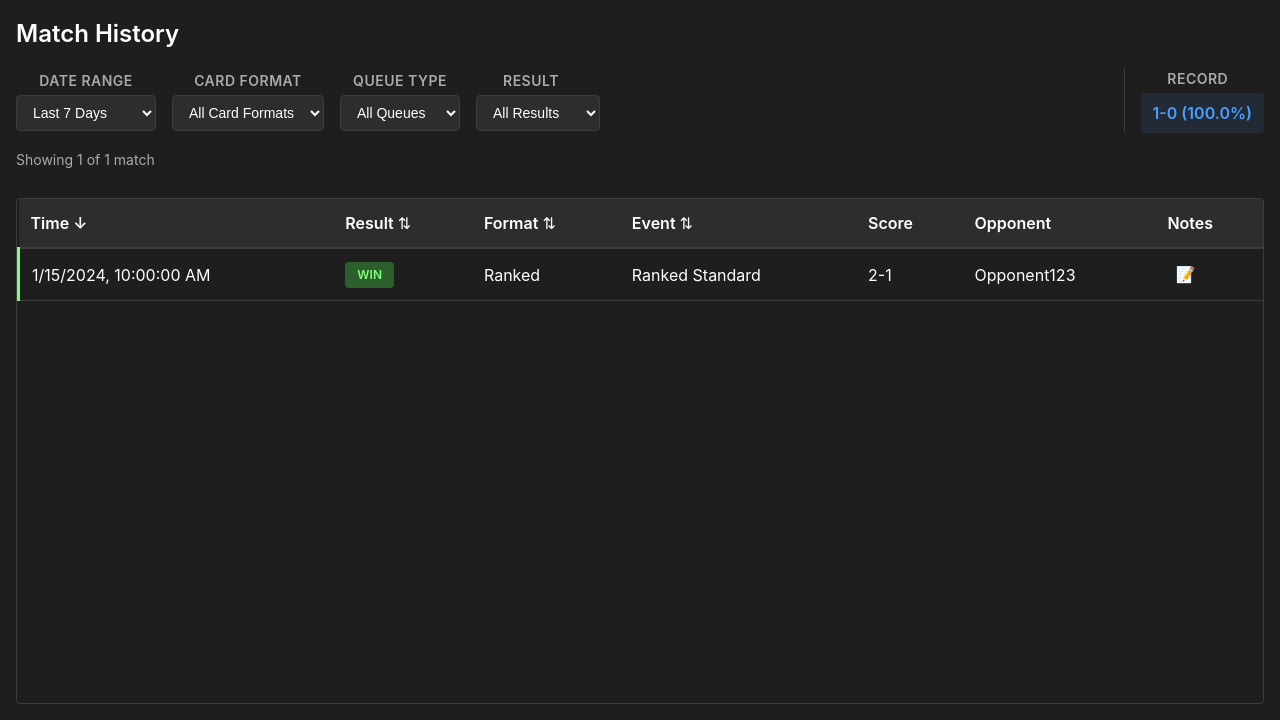
Test: MatchHistory › Sorting › should sort by event when clicking Event header
The width and height of the screenshot is (1280, 720).
Expected: the table is shown, x1=17 y1=199 x2=1263 y2=301
Click the column heading "Event ⇅" at (738, 224), box x1=620 y1=199 x2=856 y2=248
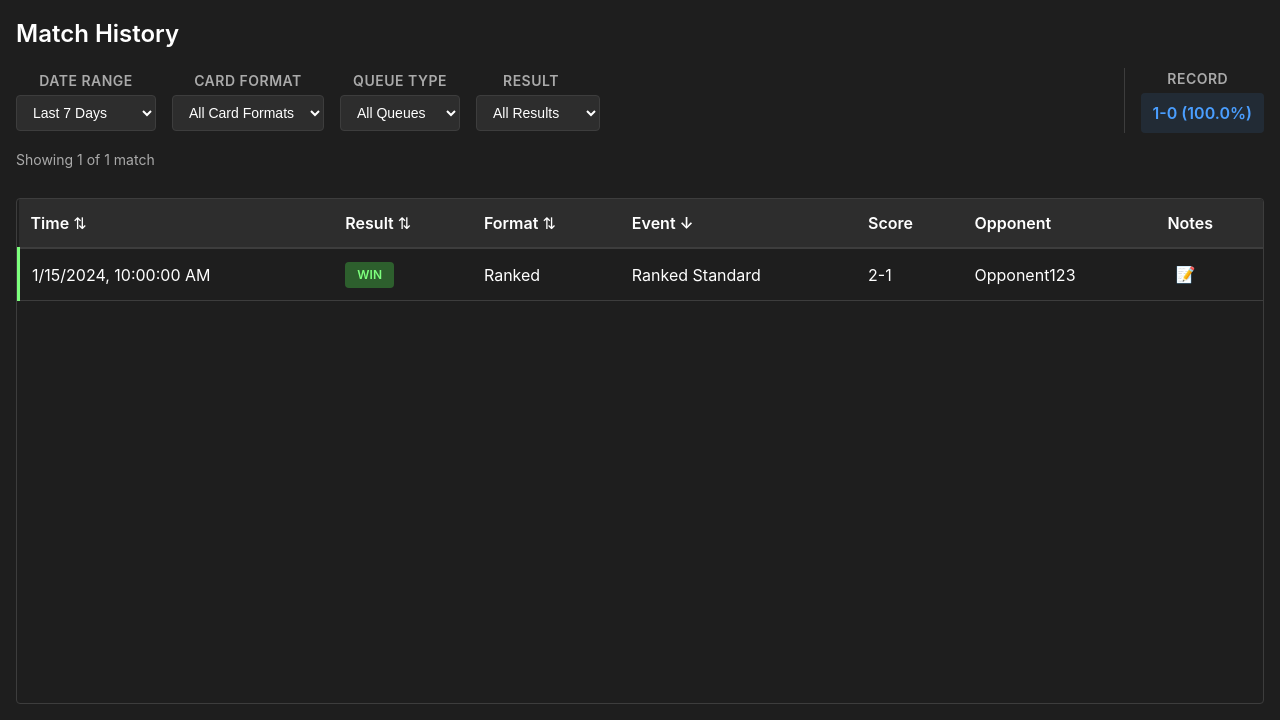
Now the column heading "Event ↓" is shown, box x1=620 y1=199 x2=856 y2=248
